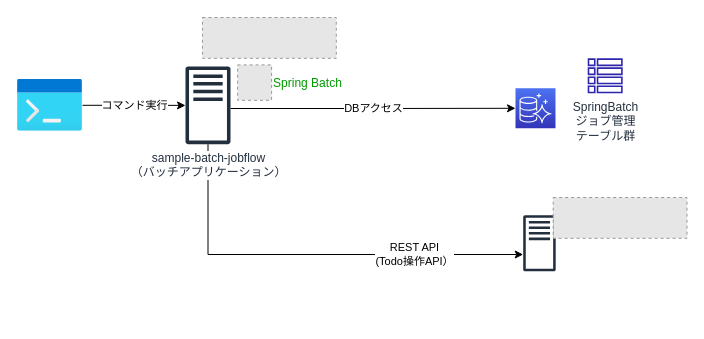
The diagram is 704 pixels wide and 339 high, and some of its shapes have lost their labels. Grey dashed boxes stand in for pictures. The shapes that lost their labels are listed below. From the top down, each one's centre as x and y in pixels, then its label:
At [535,107]: "Aurora ※ローカル実行ではH2 DB".
At [539,243]: "sample-backend （Backend アプリケーション）".
